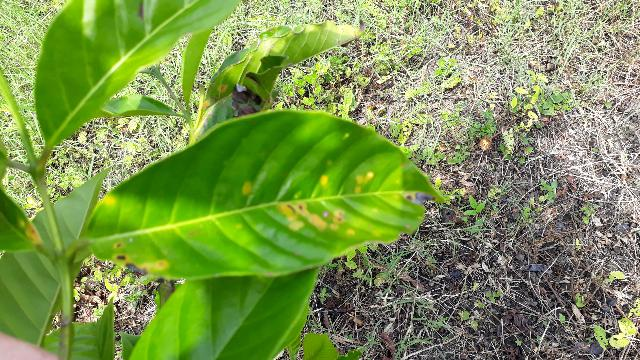rust_level_2: (61, 110, 454, 280)
